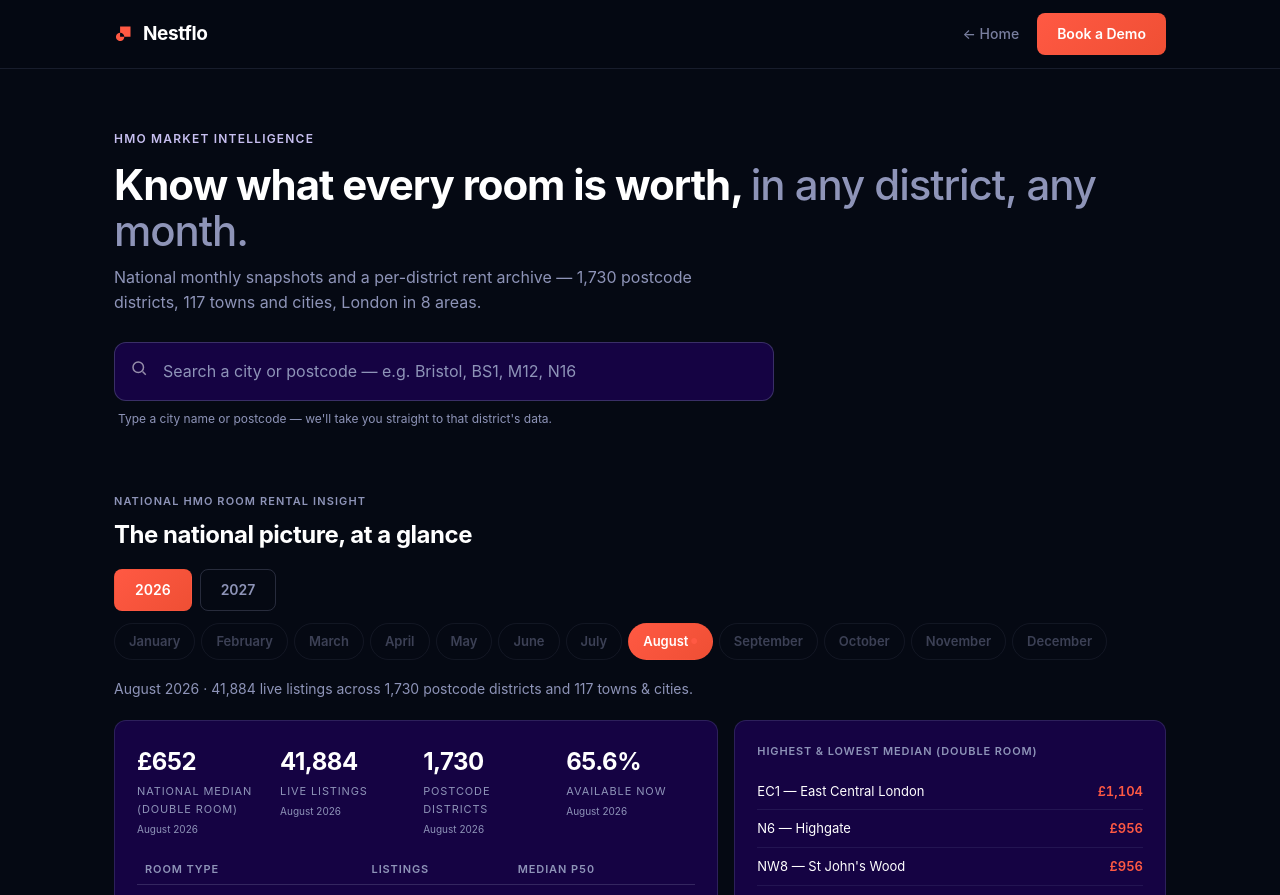
Scenario: AC-3/AC-4 hero copy and search interaction › opens a suggestion dropdown while typing and closes it when cleared
The width and height of the screenshot is (1280, 895).
Type "Bristol" into the dropdown with placeholder "Search a city or postcode — e.g. Bristol, BS1, M12, N16" at (444, 372), box [114,342,774,401]
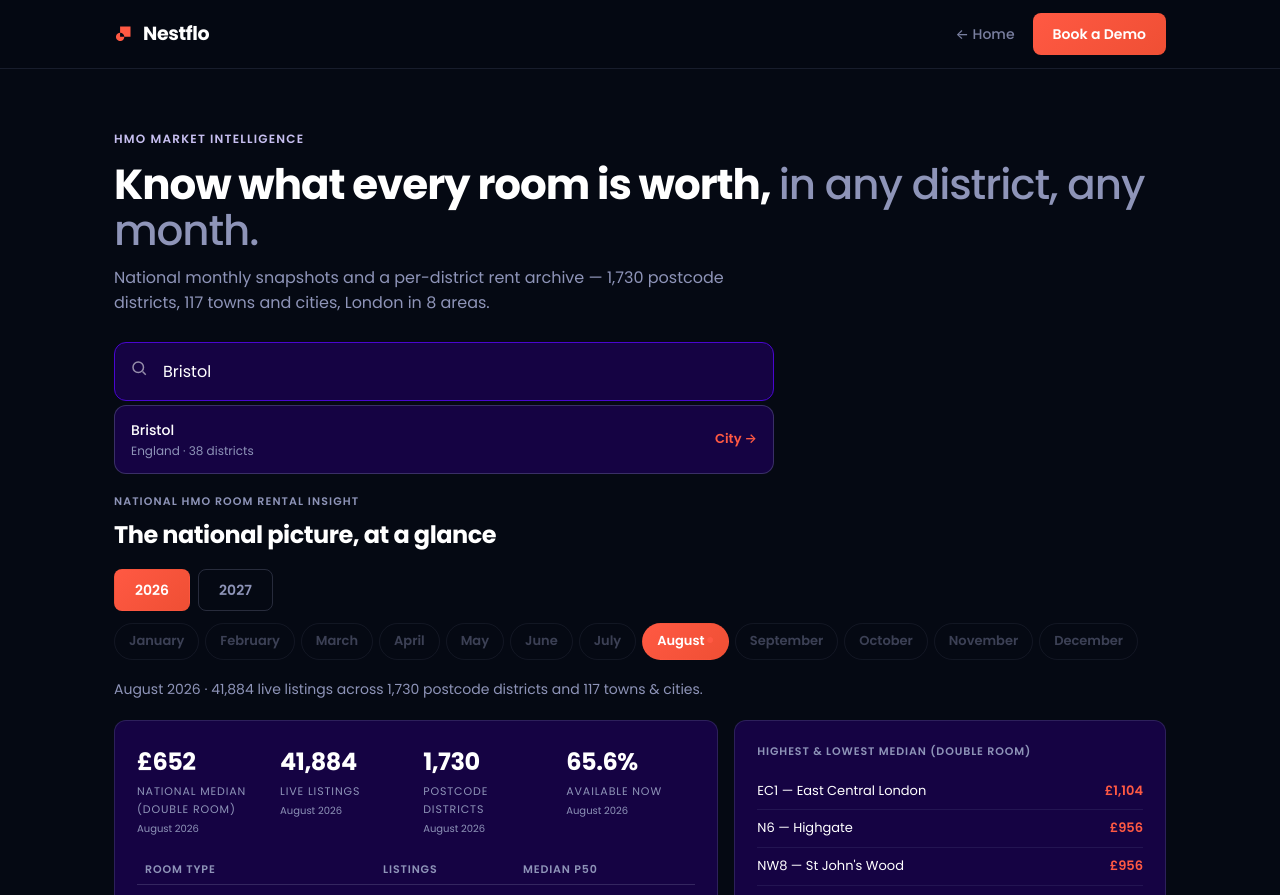
Check: the option "Bristol England · 38 districts City →" is shown, box [131,420,757,459]
Check: the list "Bristol England · 38 districts City →" is shown, box [114,404,774,474]
Clear the dropdown with placeholder "Search a city or postcode — e.g. Bristol, BS1, M12, N16" at (444, 372), box [114,342,774,401]
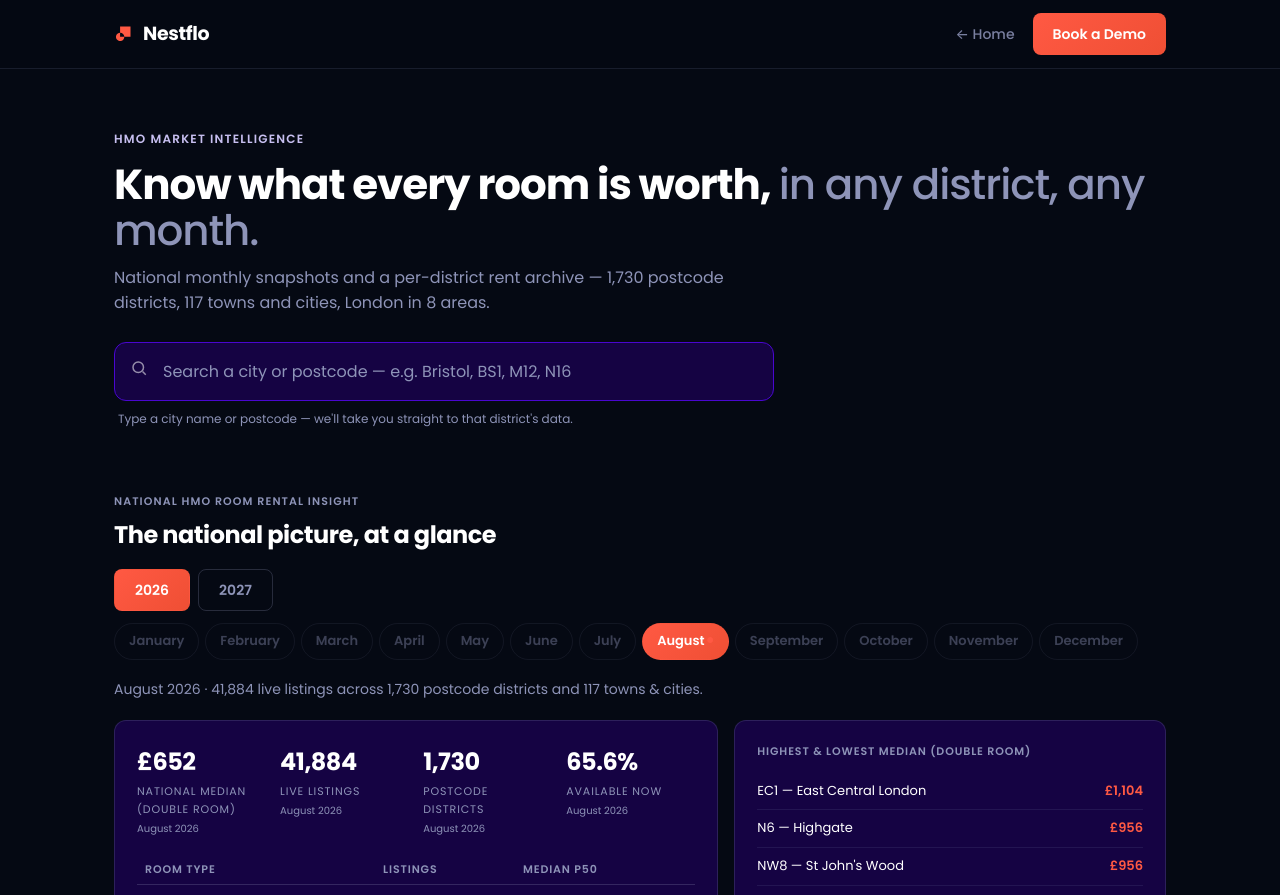
Check: the list "Bristol England · 38 districts City →" is gone
